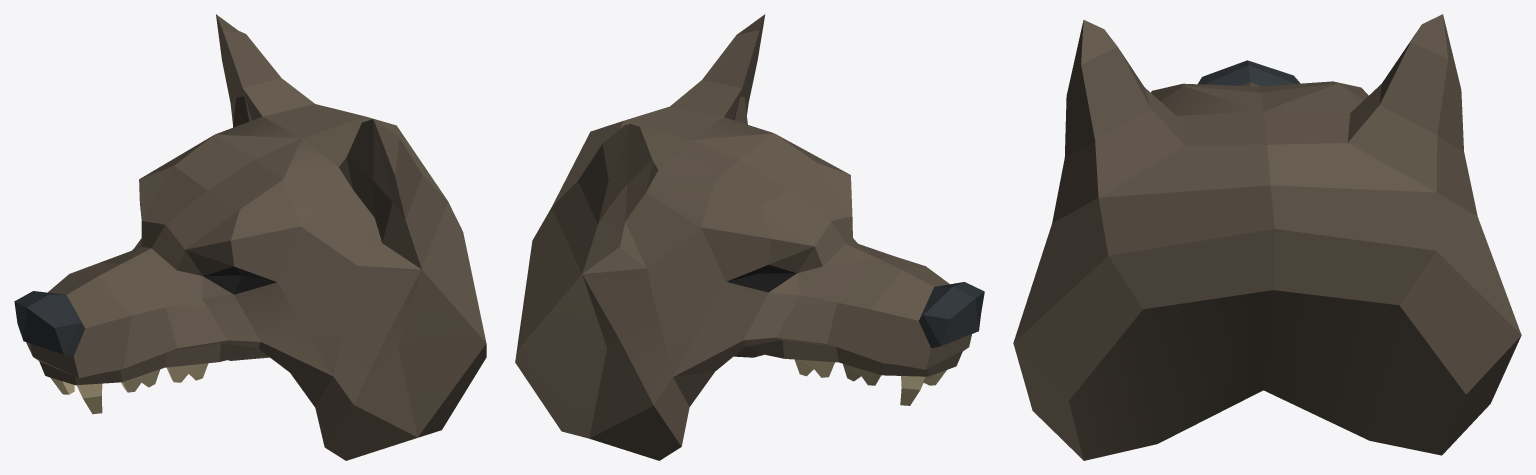
The model's file is Chr_ShoulderAttachRight_09_Static.fbx.
The picture shows the model from 3 angles, left to right: view 1: azimuth 30°, elevation 25°; view 2: azimuth 150°, elevation 25°; view 3: azimuth 270°, elevation 25°; orthographic projection. The views are drawn at different scales.
Visible parts, largest first — view 1: Chr_ShoulderAttachRight_09_Static; view 2: Chr_ShoulderAttachRight_09_Static; view 3: Chr_ShoulderAttachRight_09_Static.
Part boxes in pixels (x1,y1,x2,y2): Chr_ShoulderAttachRight_09_Static: (14, 14, 486, 460); Chr_ShoulderAttachRight_09_Static: (515, 14, 984, 460); Chr_ShoulderAttachRight_09_Static: (1013, 14, 1521, 460).
Bounding box in the file's own units: 0.295 × 0.2368 × 0.2684.
